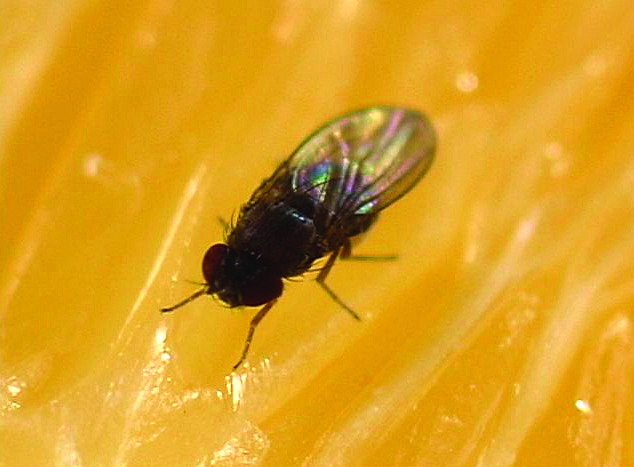Fruit fly: (155, 97, 475, 365)
